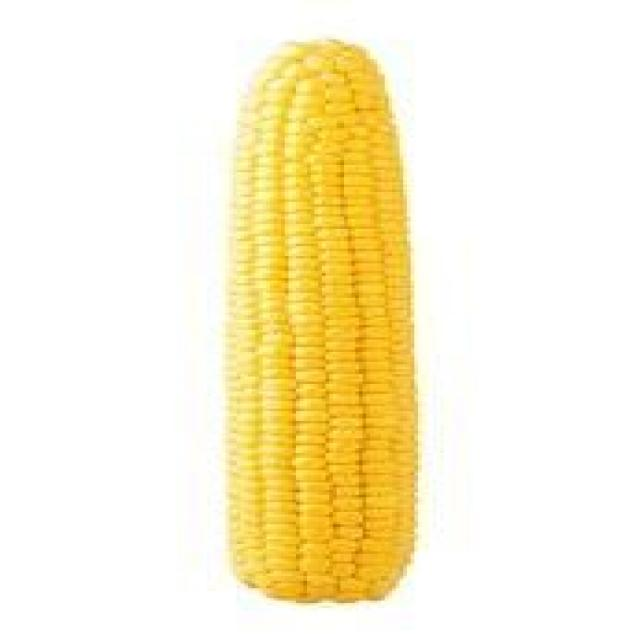Corn ear: (216, 35, 428, 609)
